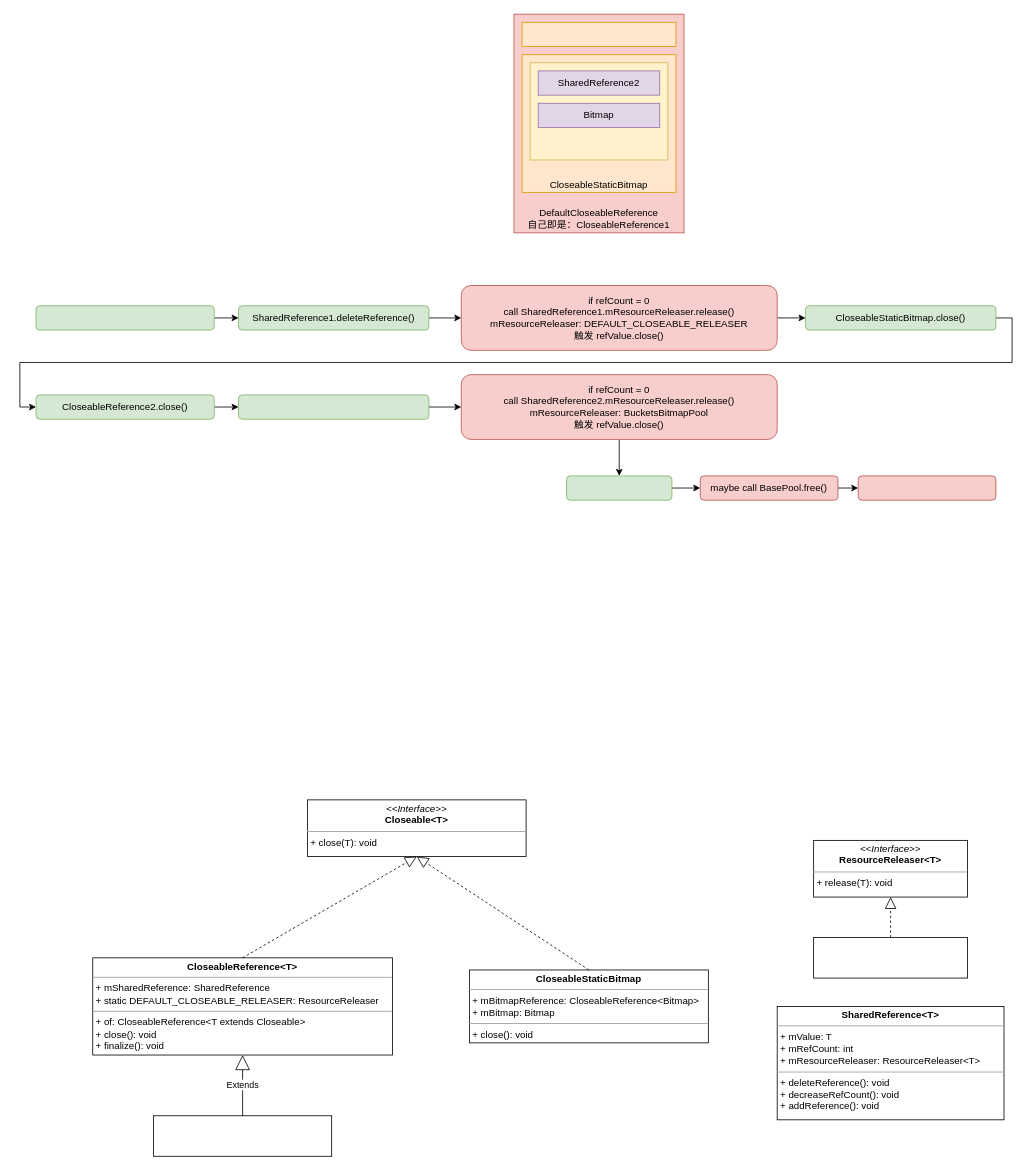
This 1033x1170 diagram has some shape labels left out. The box of each missing label's shape, as (x1, y1, x2, y2) in pixels:
BasePool.release: (566, 475, 672, 500)
bitmap.recycle(): (857, 475, 996, 500)
BucketsBitmapPool<T> + free(): void: (813, 937, 968, 978)
CloseableReference1.close(): (35, 305, 214, 330)
CloseableReference2: (529, 62, 668, 160)
DefaultCloseableReference<T> + finalize(): void: (153, 1115, 332, 1156)
SharedReference1: (521, 21, 676, 47)
SharedReference2.deleteReference(): (238, 394, 429, 419)
